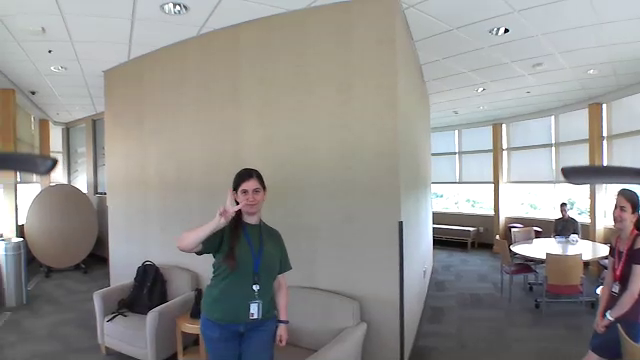peace: (209, 188, 252, 232)
